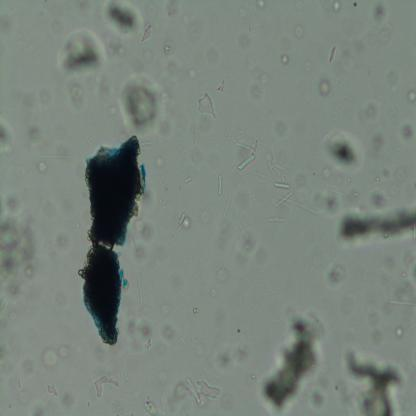Background material: (256, 308, 322, 414), (0, 195, 47, 302), (333, 199, 416, 250), (346, 346, 402, 416), (114, 69, 168, 138), (56, 25, 108, 76), (318, 127, 366, 171), (101, 0, 141, 40), (0, 304, 18, 376), (210, 342, 251, 373), (391, 252, 416, 300), (234, 235, 266, 271), (126, 318, 154, 351), (90, 374, 122, 400), (40, 344, 72, 369), (317, 191, 341, 220), (355, 102, 381, 128), (198, 377, 221, 406), (372, 184, 394, 212), (0, 120, 17, 156), (68, 78, 86, 110), (194, 95, 216, 121), (102, 38, 127, 60), (366, 309, 382, 342), (97, 74, 116, 101), (325, 263, 345, 288), (310, 386, 329, 412), (214, 130, 246, 145), (337, 47, 355, 73), (17, 355, 39, 376), (147, 367, 170, 387), (0, 11, 17, 38), (399, 119, 416, 146), (57, 389, 76, 413), (370, 0, 389, 23), (158, 318, 175, 342), (57, 229, 72, 253), (204, 42, 219, 66), (381, 250, 398, 271), (271, 117, 288, 137), (27, 123, 43, 144), (150, 154, 168, 172), (160, 36, 178, 54), (317, 76, 333, 96), (143, 396, 159, 416), (139, 20, 152, 44), (215, 263, 229, 285), (190, 148, 206, 166), (251, 132, 266, 151), (44, 381, 61, 397), (164, 0, 179, 18), (166, 393, 177, 416), (370, 134, 384, 152), (140, 46, 154, 64), (301, 54, 314, 73), (378, 26, 393, 42), (30, 401, 46, 416), (132, 59, 147, 75), (237, 29, 250, 47), (249, 83, 264, 98), (266, 149, 282, 163), (200, 208, 212, 225), (176, 382, 186, 401), (235, 5, 248, 19), (394, 324, 404, 342), (41, 91, 51, 109), (216, 78, 227, 94), (380, 166, 392, 180), (395, 167, 406, 182), (180, 12, 191, 27), (279, 51, 289, 67), (294, 24, 305, 38), (160, 302, 171, 316), (328, 45, 336, 64), (260, 72, 270, 86), (332, 0, 342, 14), (178, 299, 193, 308), (389, 182, 399, 195), (107, 104, 117, 117), (253, 0, 267, 9), (16, 378, 25, 392), (183, 215, 192, 229), (408, 88, 416, 103), (37, 162, 47, 174), (322, 167, 331, 180), (209, 286, 219, 297), (154, 177, 164, 187), (190, 69, 198, 81), (192, 305, 200, 316), (124, 367, 128, 383), (86, 135, 92, 145), (353, 190, 360, 198), (109, 401, 118, 406), (375, 175, 380, 183), (352, 1, 358, 7), (252, 373, 256, 381), (237, 327, 242, 333), (346, 177, 351, 182)
Fragment: (82, 132, 149, 346)
Glass filter fibre: (284, 197, 318, 215), (186, 378, 200, 404), (136, 270, 144, 312), (238, 153, 254, 171), (275, 192, 292, 208), (236, 143, 254, 154), (223, 192, 230, 219), (40, 153, 70, 159), (176, 212, 186, 230), (390, 300, 414, 306), (274, 181, 291, 189), (328, 187, 344, 195), (160, 395, 166, 416), (267, 217, 285, 224), (271, 164, 280, 176), (218, 175, 223, 195), (140, 139, 152, 147), (194, 129, 199, 147), (275, 164, 287, 171), (0, 297, 6, 309), (408, 323, 416, 332), (181, 336, 187, 345), (185, 177, 192, 183), (268, 162, 272, 171), (281, 173, 285, 182), (160, 197, 162, 204)
